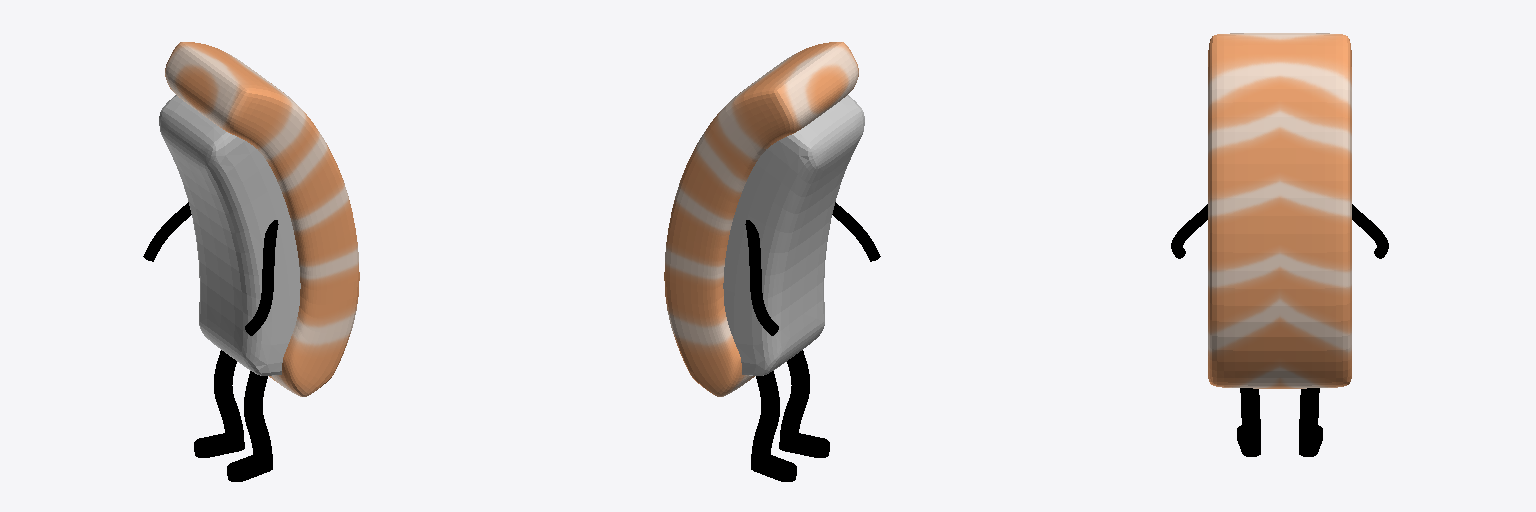
3 views of the same model, side by side, from view 1: azimuth 30°, elevation 25°; view 2: azimuth 150°, elevation 25°; view 3: azimuth 270°, elevation 25° (orthographic).
Visible parts, largest first — view 1: Cube.001, Cube, BezierCurve.003, BezierCurve.001; view 2: Cube.001, Cube, BezierCurve.003, BezierCurve.001; view 3: Cube.001, BezierCurve.003, BezierCurve.001.
Part boxes in pixels (x1,y1,x2,y2): Cube.001: (165, 42, 359, 396); Cube: (159, 95, 300, 375); BezierCurve.003: (194, 350, 272, 481); BezierCurve.001: (143, 202, 278, 335); Cube.001: (664, 42, 858, 396); Cube: (723, 95, 864, 375); BezierCurve.003: (751, 350, 829, 481); BezierCurve.001: (745, 202, 880, 335); Cube.001: (1208, 33, 1351, 388); BezierCurve.003: (1237, 388, 1322, 456); BezierCurve.001: (1171, 204, 1388, 258).
Bounding box in the file's own units: 2.84 × 7.45 × 3.64.
4 materials, 1 textured.